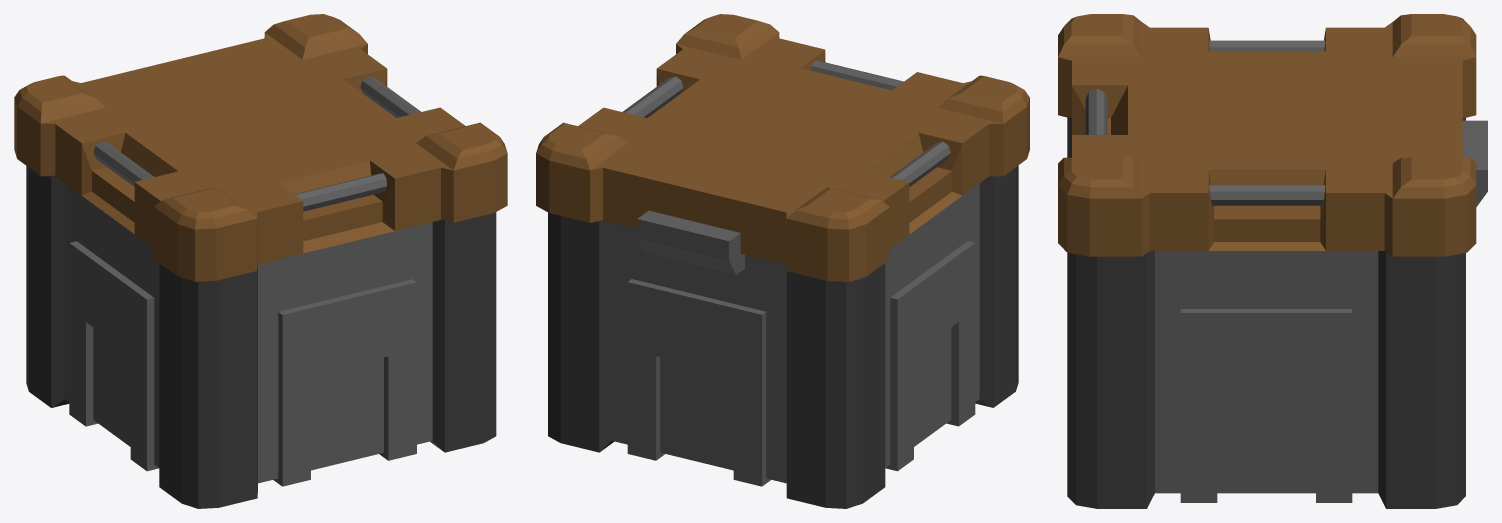
The model's file is lootbox.glb.
The picture shows the model from 3 angles, left to right: view 1: azimuth 30°, elevation 25°; view 2: azimuth 150°, elevation 25°; view 3: azimuth 270°, elevation 25°; orthographic projection. The views are drawn at different scales.
Visible parts, largest first — view 1: Lootbox_Base; view 2: Lootbox_Base; view 3: Lootbox_Base.
Part boxes in pixels (x1,y1,x2,y2): Lootbox_Base: (14, 14, 507, 508); Lootbox_Base: (536, 14, 1029, 508); Lootbox_Base: (1058, 14, 1487, 508).
Bounding box in the file's own units: 0.592 × 0.5121 × 0.6081.
